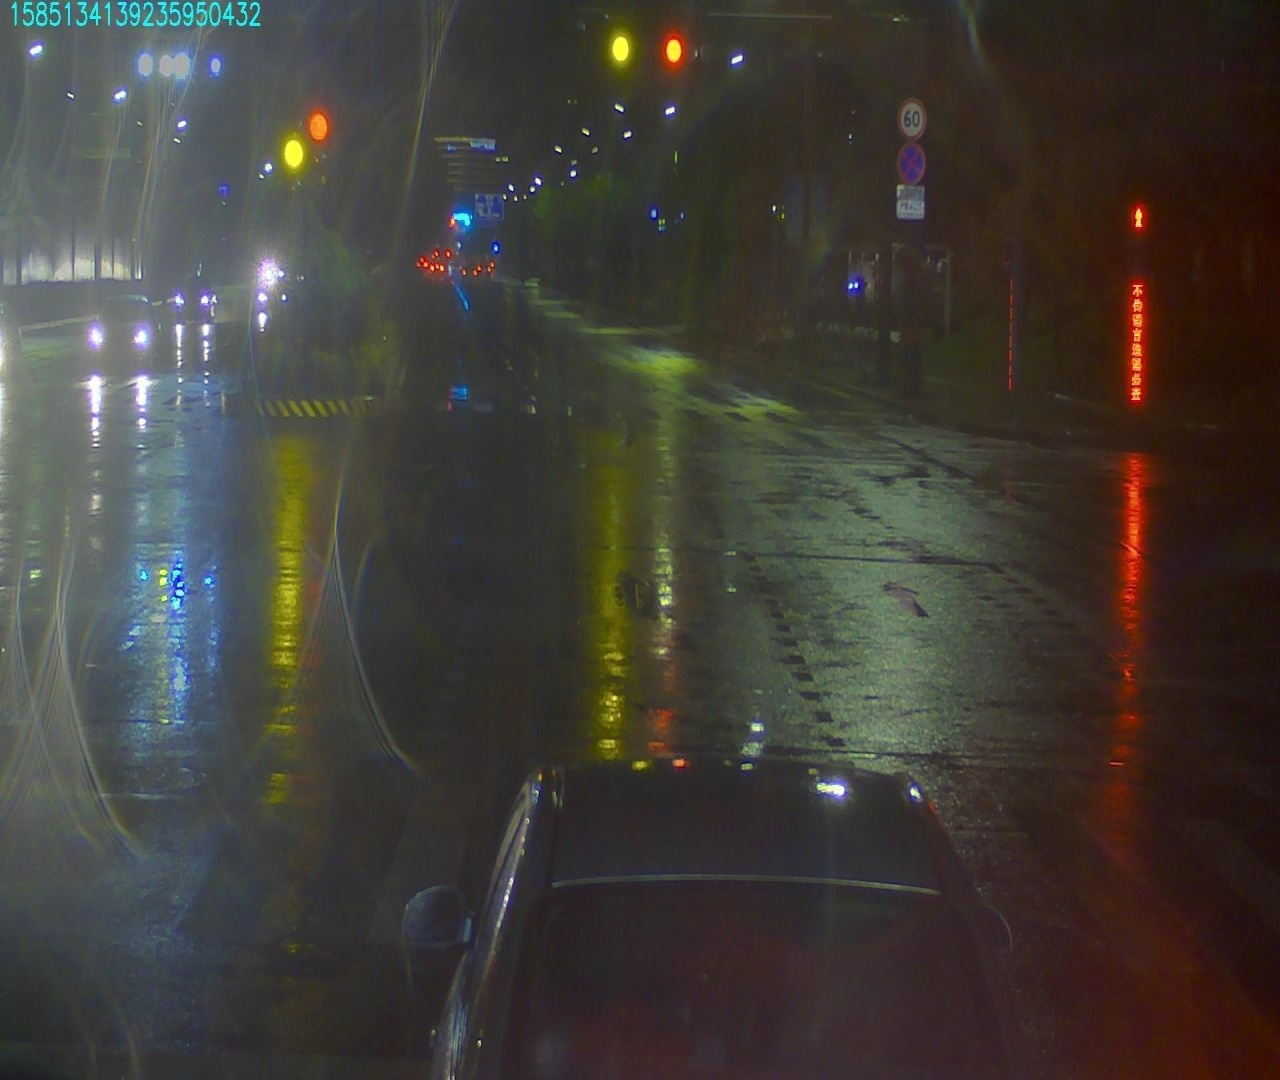red: (664, 37, 688, 66)
yellow: (608, 33, 632, 78)
